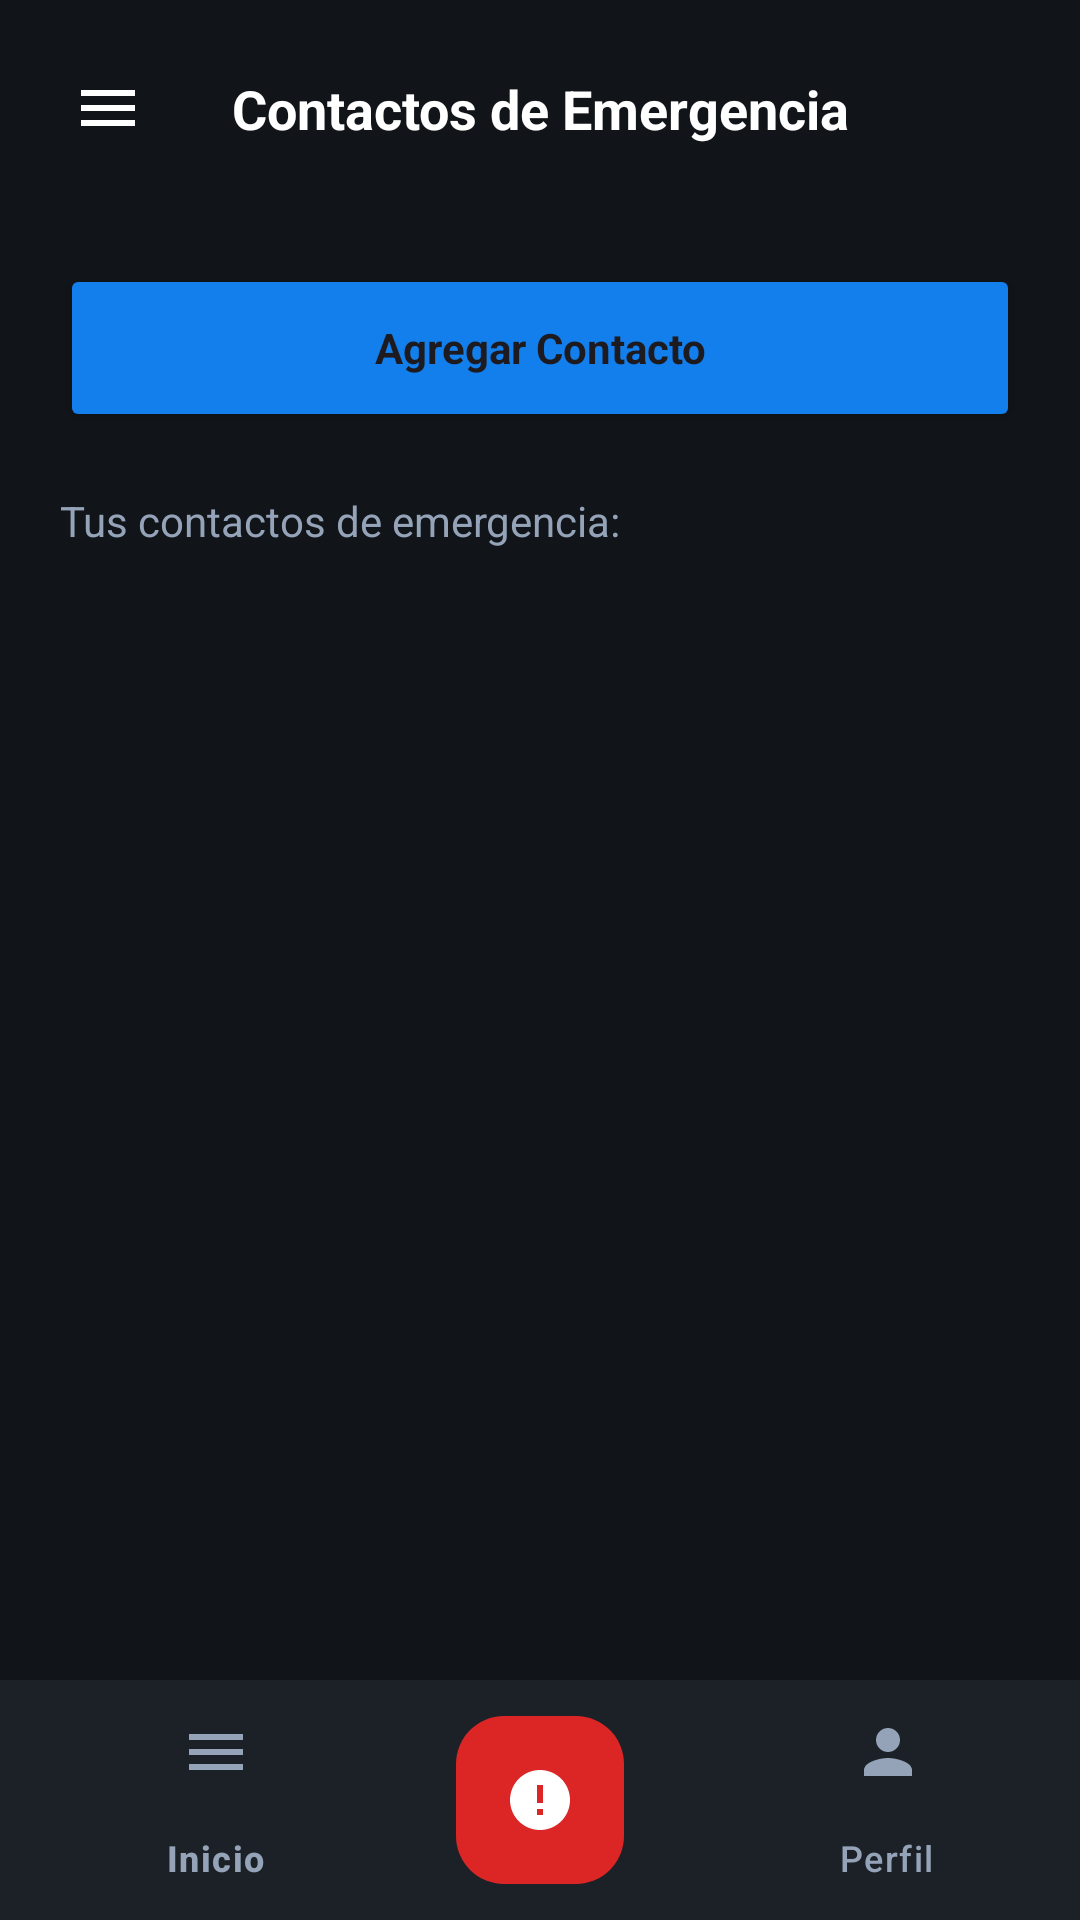

Where icons sit on this 1080px×1920px app screen, as region(x1, y1, x2, y2):
menu: region(81, 90, 135, 126)
